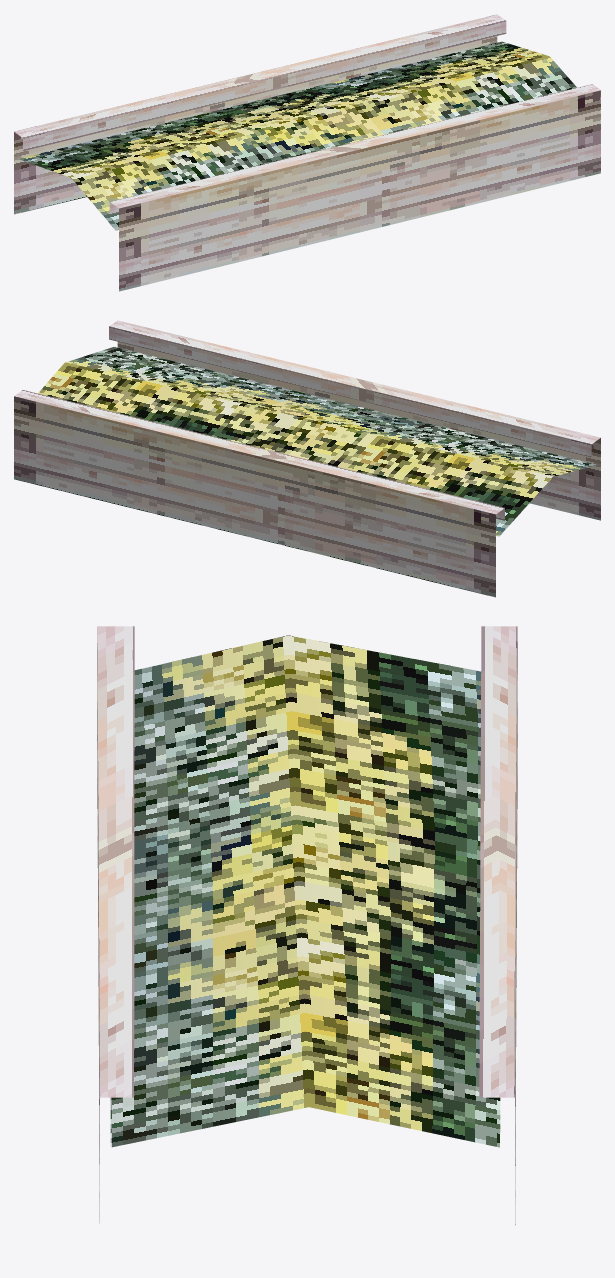
File: Environment - Prop - Wd Plnt 02 M - PMWdPlnt02_M.glb
3 views of the same model, one above another, from view 1: azimuth 30°, elevation 25°; view 2: azimuth 150°, elevation 25°; view 3: azimuth 270°, elevation 25° (orthographic). The views are drawn at different scales.
Parts seen in each view (by area): view 1: PMWDPLNT02_M; view 2: PMWDPLNT02_M; view 3: PMWDPLNT02_M.
Boxes of the visible parts, left/top/right/bottom form: PMWDPLNT02_M: left=14, top=14, right=600, bottom=291; PMWDPLNT02_M: left=14, top=320, right=600, bottom=597; PMWDPLNT02_M: left=97, top=626, right=517, bottom=1224.
Bounding box in the file's own units: 29.81 × 4.89 × 11.21.
Materials: 1 (1 with a texture image).
